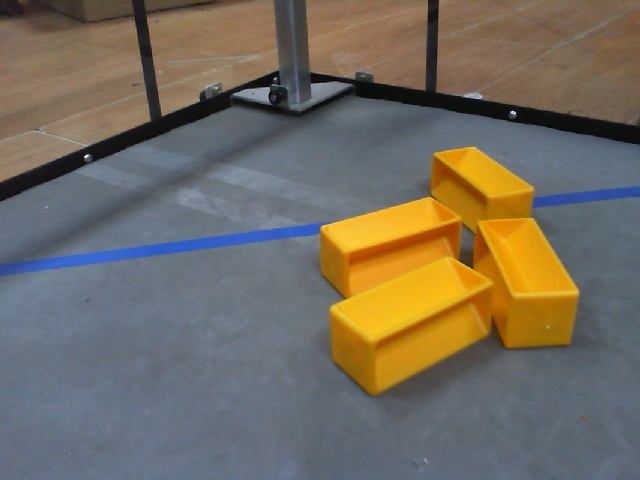YellowSample: (323, 253, 500, 396), (468, 214, 585, 354), (309, 197, 469, 295), (427, 142, 542, 241)
